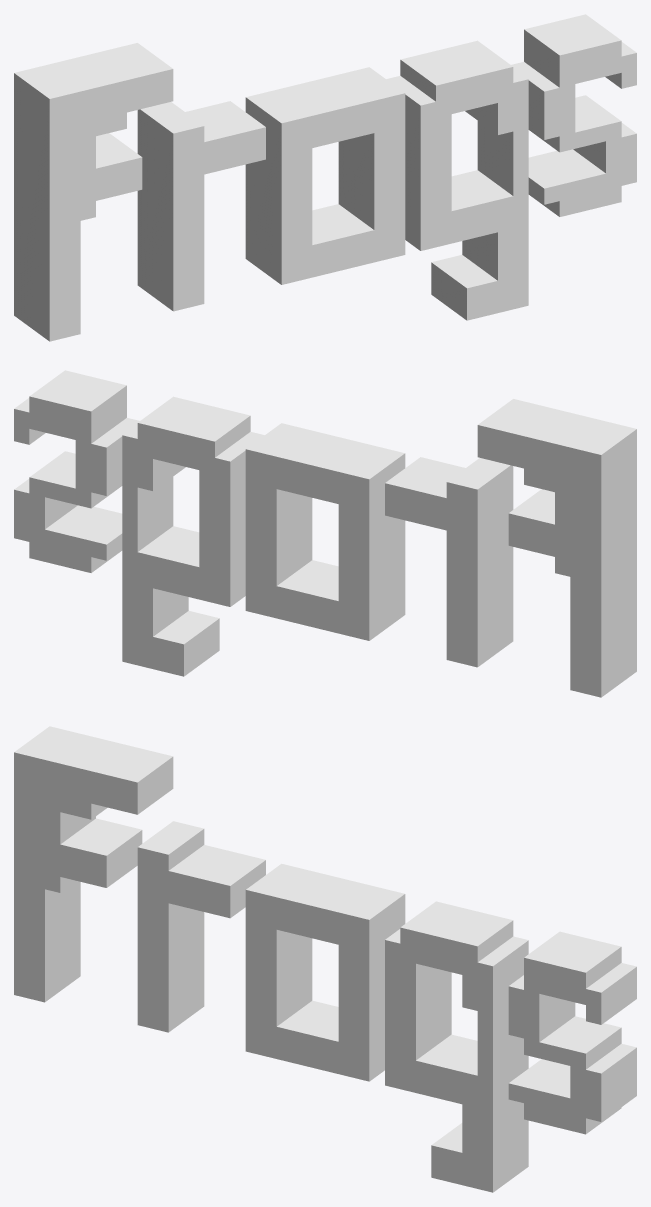
The model's file is frogs.obj.
3 renders of one model, top to bottom at view 1: azimuth 30°, elevation 25°; view 2: azimuth 150°, elevation 25°; view 3: azimuth 330°, elevation 25°, orthographic.
Bounding box in the file's own units: 38 × 20 × 4.
Materials: 1 (1 with a texture image).
